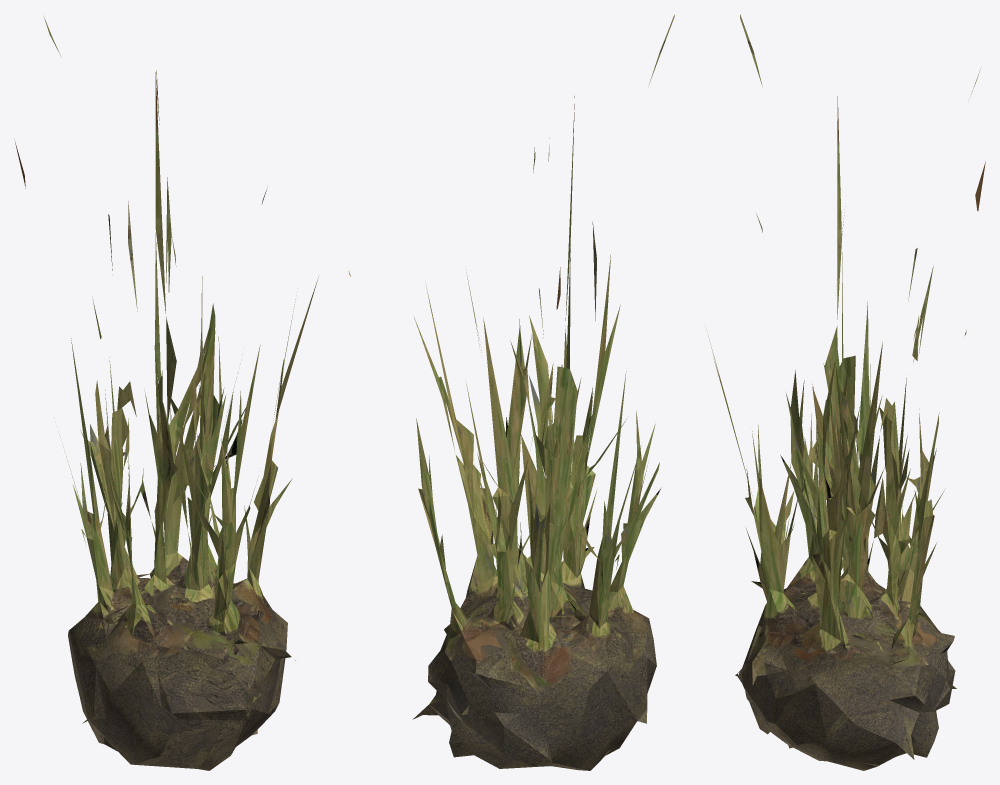
Rendered from cattails.glb.
3 renders of one model, left to right at view 1: azimuth 30°, elevation 25°; view 2: azimuth 150°, elevation 25°; view 3: azimuth 270°, elevation 25°, orthographic. The views are drawn at different scales.
Parts seen in each view (by area): view 1: output_unwrapped; view 2: output_unwrapped; view 3: output_unwrapped.
Part boxes in pixels (x1,y1,x2,y2): output_unwrapped: [14, 16, 318, 770]; output_unwrapped: [348, 14, 674, 770]; output_unwrapped: [706, 14, 985, 770].
Size of the model in its own units: 0.6085 by 1.71 by 0.6254.
1 material, 1 textured.
